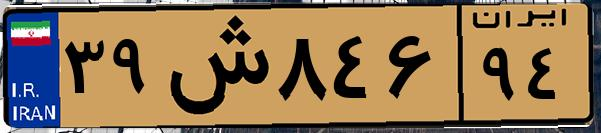3: (57, 26, 110, 100)
4: (330, 28, 385, 110), (525, 38, 570, 115)
6: (385, 28, 445, 110)
8: (270, 28, 330, 110)
9: (475, 38, 525, 113), (110, 28, 158, 98)
ش: (158, 12, 270, 120)
